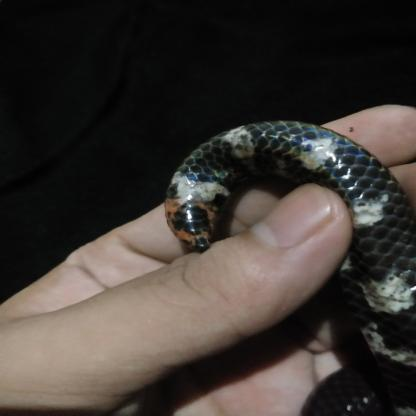Snake: (160, 116, 387, 258)
